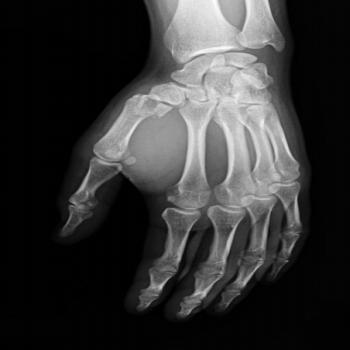Fracture: (143, 95, 176, 124)
